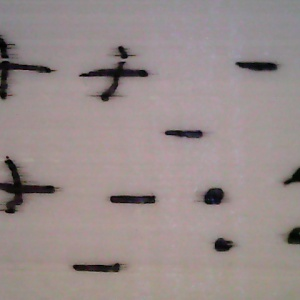3dpdot: (186, 176, 237, 209), (270, 155, 300, 193), (208, 231, 238, 257), (274, 221, 300, 249)
3dpminus: (65, 254, 129, 278), (161, 122, 210, 150), (104, 190, 159, 214), (233, 57, 286, 81)
3dpplus: (87, 39, 158, 110), (1, 150, 65, 226), (1, 31, 57, 111)
